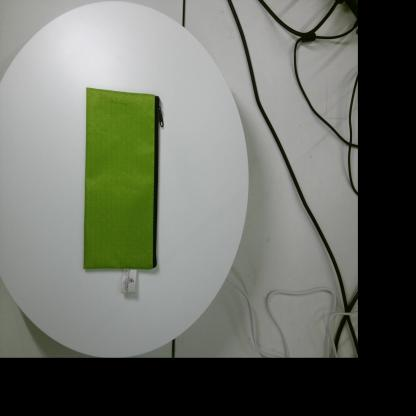Stationery: (83, 87, 164, 294)
